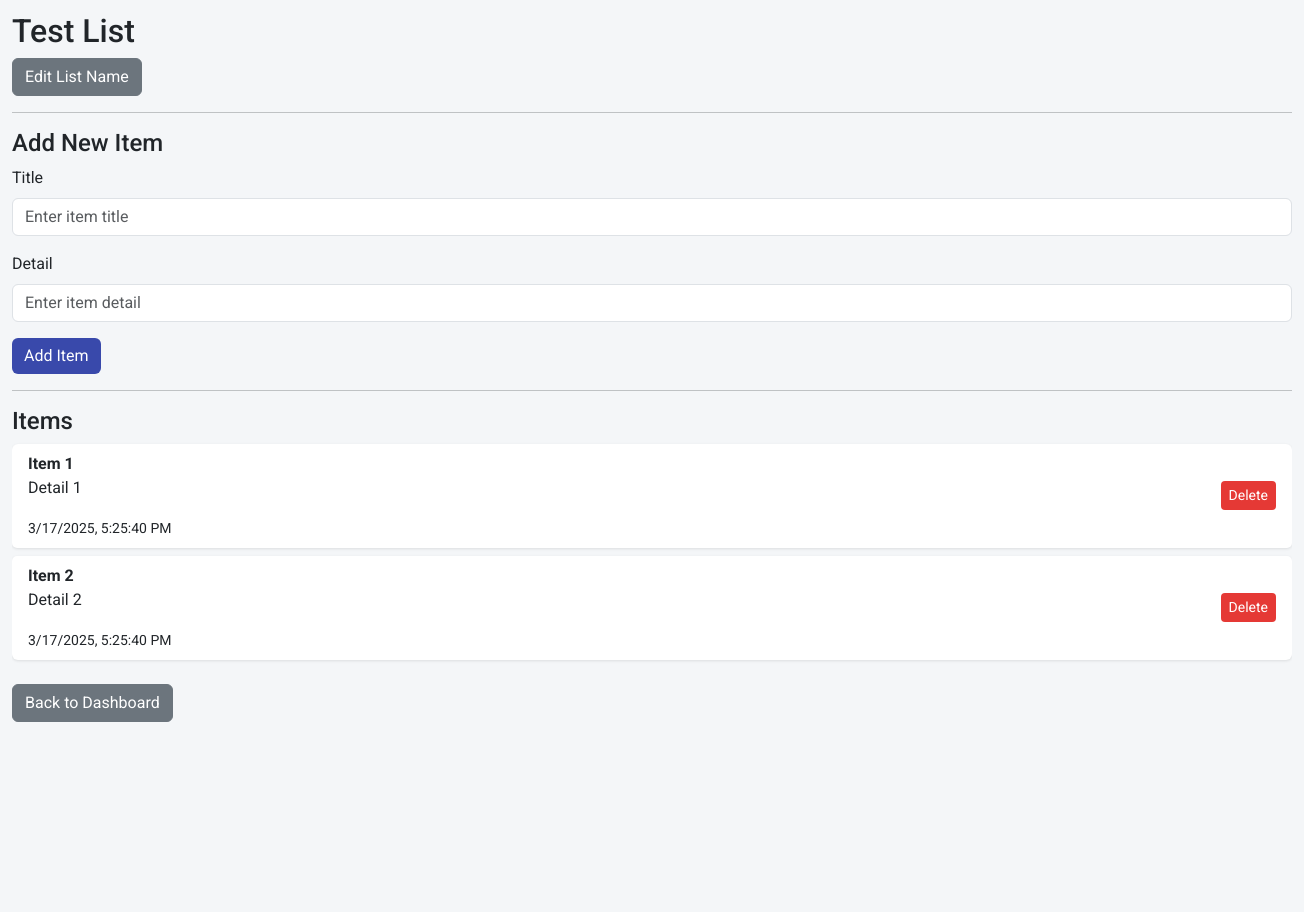
Scenario: TodoListDetail Component › deletes an item
The width and height of the screenshot is (1304, 912).
Check: the heading "Test List" is shown, box [12, 12, 135, 50]
Check: the text "Item 1" is shown, box [28, 454, 74, 473]
Note: click the "Delete" button for the first item
Click the button "Delete" in the row of "Detail 1" at [1248, 496], box [1220, 482, 1276, 510]
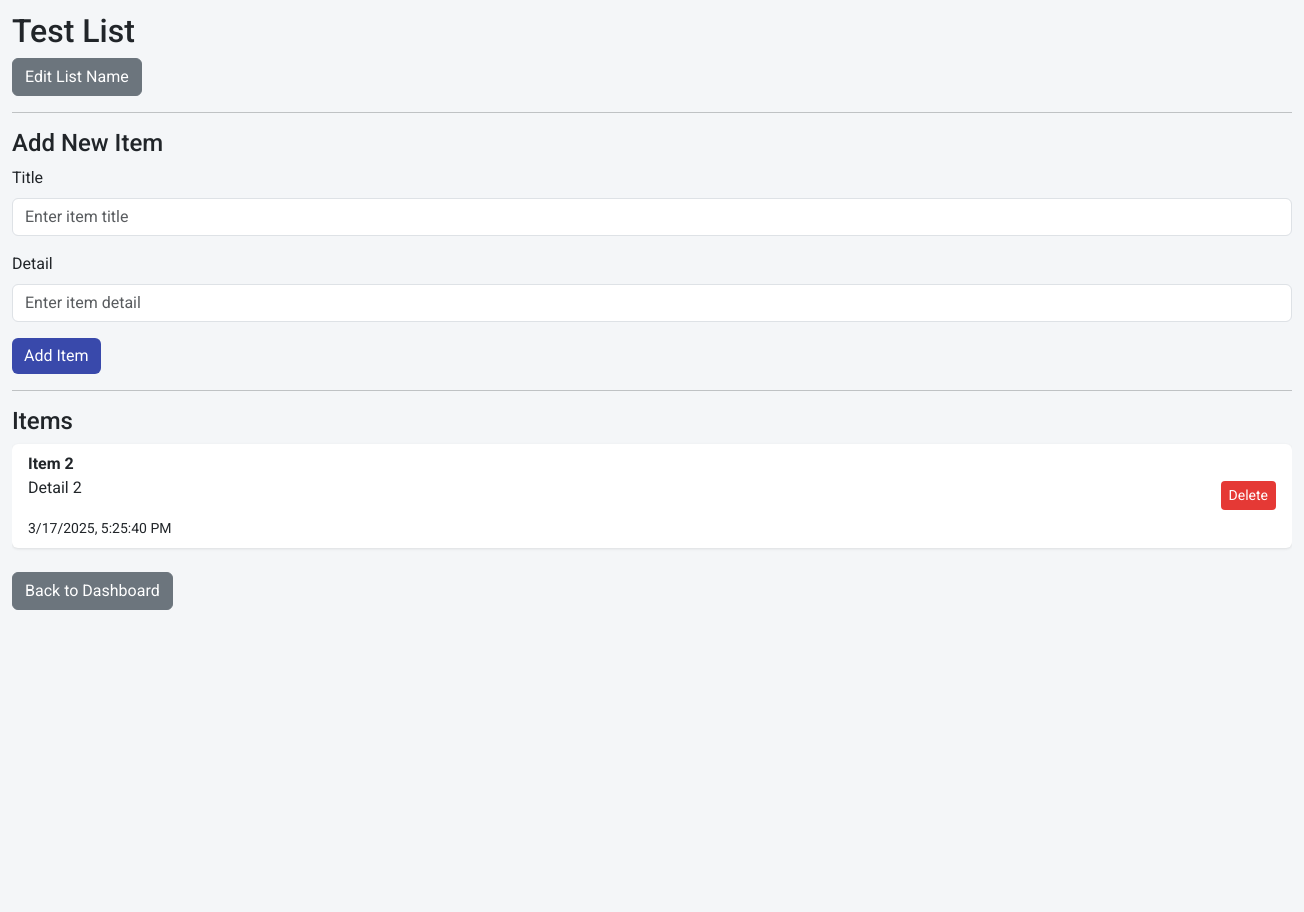
Check: the text "Item 1" is gone
